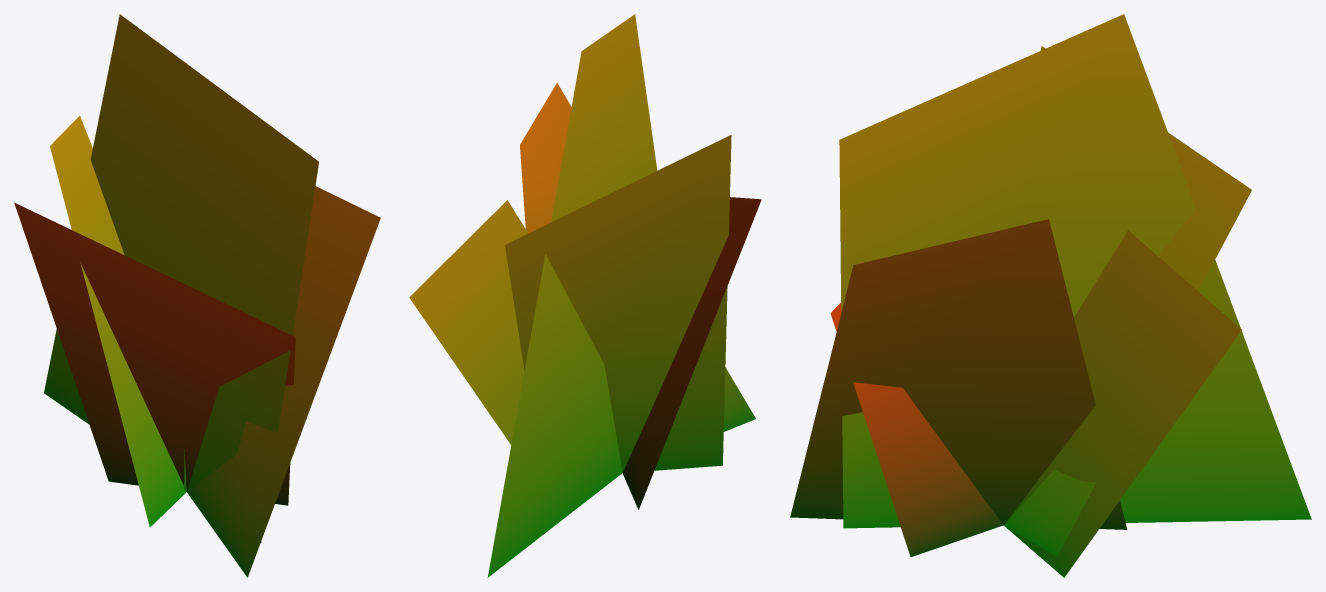
The model's file is Ocean Seaweed_LOD2_Var2_sdDgS.fbx.
The picture shows the model from 3 angles, left to right: view 1: azimuth 30°, elevation 25°; view 2: azimuth 150°, elevation 25°; view 3: azimuth 270°, elevation 25°; orthographic projection. The views are drawn at different scales.
Parts seen in each view (by area): view 1: _zj34_Var2_LOD2; view 2: _zj34_Var2_LOD2; view 3: _zj34_Var2_LOD2.
Boxes of the visible parts, x1,y1,x2,y2 form: _zj34_Var2_LOD2: (14, 14, 380, 577); _zj34_Var2_LOD2: (409, 14, 761, 577); _zj34_Var2_LOD2: (790, 14, 1311, 577).
Size of the model in its own units: 29.77 by 48.04 by 42.15.
